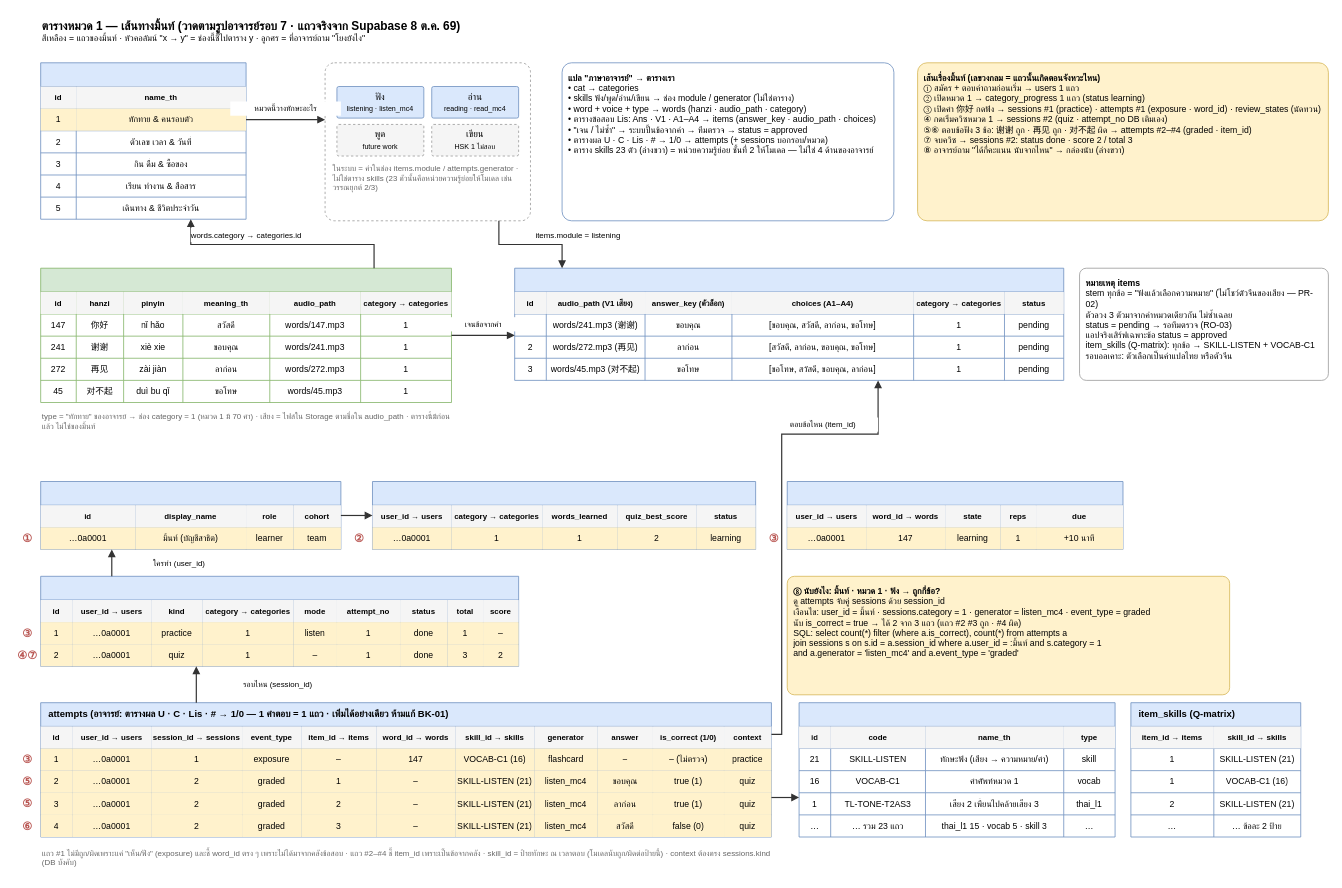
This 1342x888 diagram has some shape labels left out. The shapes that lost their labels are listed below. From the top down, each one's box as (x1, y1, x2, y2) in pixels, then its label:
(40, 62, 246, 219): categories (อาจารย์: cat)
(324, 62, 530, 221): ทักษะ 4 ช่องทาง (อาจารย์: skills)
(40, 267, 451, 403): words (อาจารย์: word + voice · type) — มีจริง 300 คำ
(514, 267, 1064, 380): items · module = listening (อาจารย์: Lis — ข้อสอบ)
(40, 481, 341, 549): users (อาจารย์: U)
(372, 481, 756, 549): category_progress (คน × หมวด — "ใครเรียนหมวดไหน ถึงไหน")
(786, 481, 1123, 549): review_states (คน × คำ — FSRS นัดทวน)
(40, 576, 519, 666): sessions (1 รอบ = 1 แถว)
(798, 702, 1115, 837): skills (หน่วยความรู้ย่อย 23 ตัว — ชั้นที่ 2 ให้โมเดล BKT)
